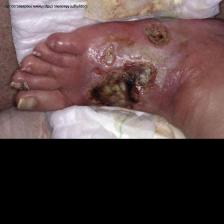Wound: (91, 67, 167, 119), (138, 21, 177, 52), (94, 35, 130, 66)
